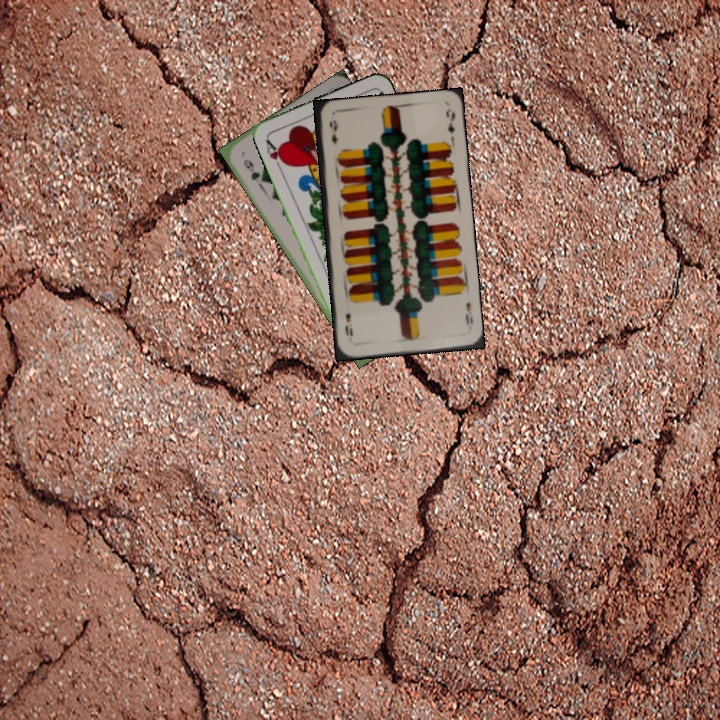E9: (461, 298, 476, 333), (325, 116, 340, 148)
G9: (239, 155, 262, 183)
HA: (261, 135, 289, 173)
